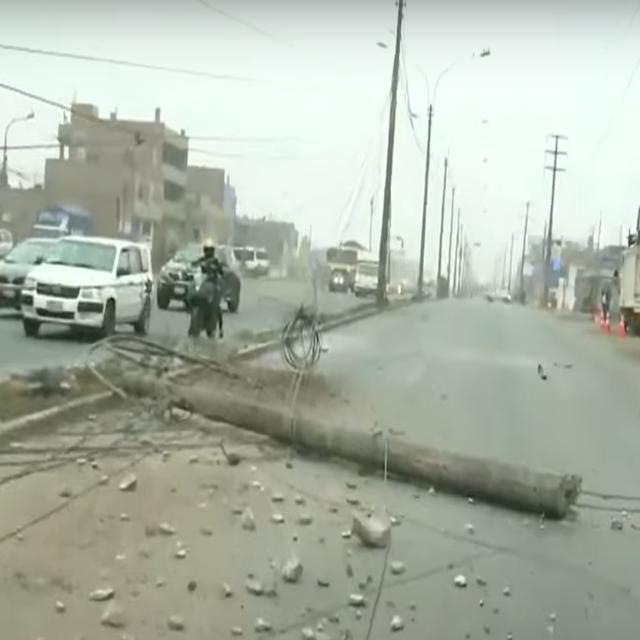Inclined Pole: (112, 362, 588, 517)
